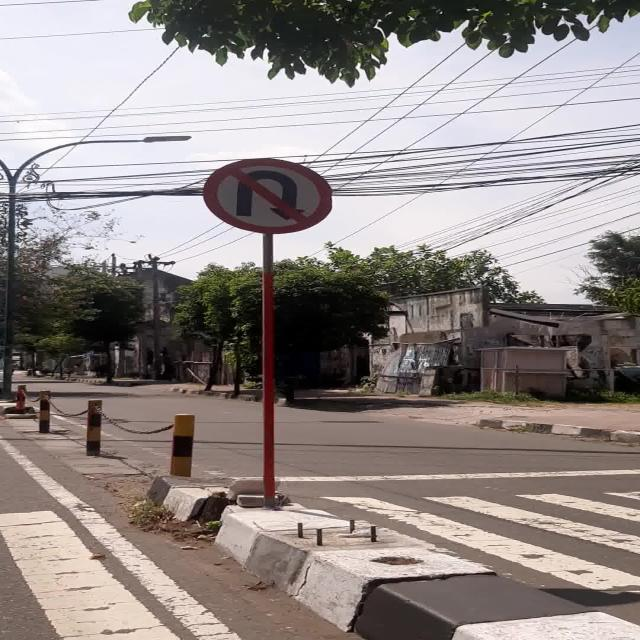Dilarang Putar Balik: (202, 158, 333, 234)
